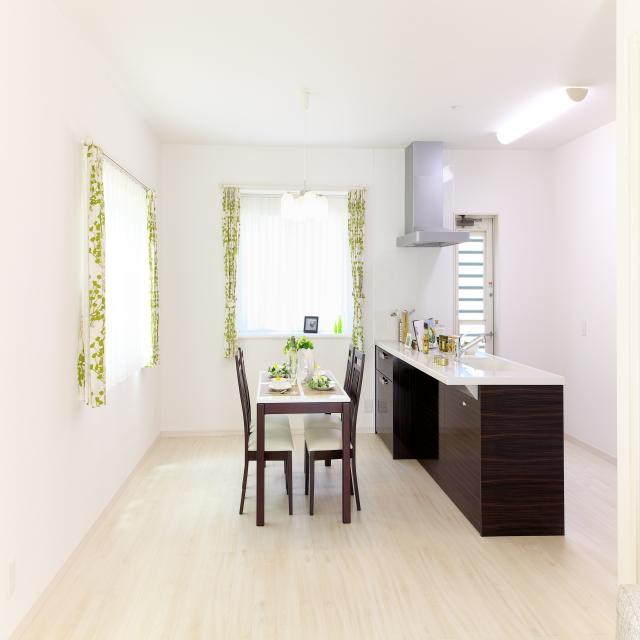floor: (5, 433, 617, 640)
wall: (160, 143, 453, 438), (443, 150, 552, 373), (76, 135, 160, 409), (551, 119, 617, 466)
